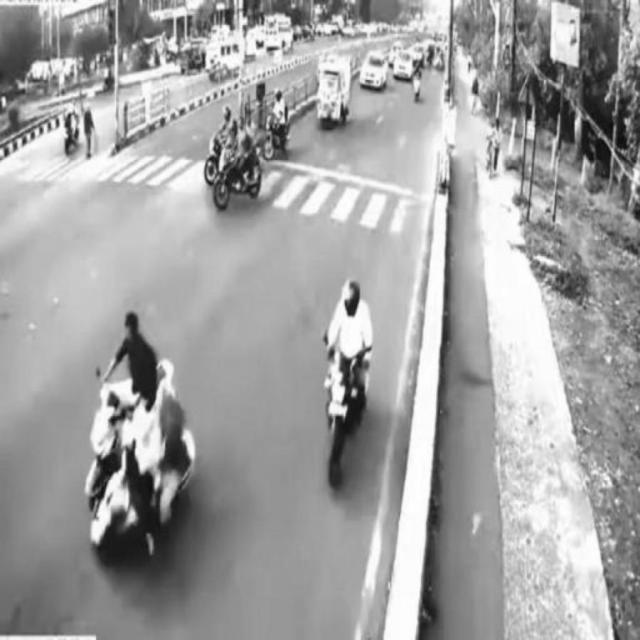accident: (89, 314, 193, 548)
vehicle: (324, 275, 374, 485), (207, 118, 269, 209), (318, 50, 354, 127)
